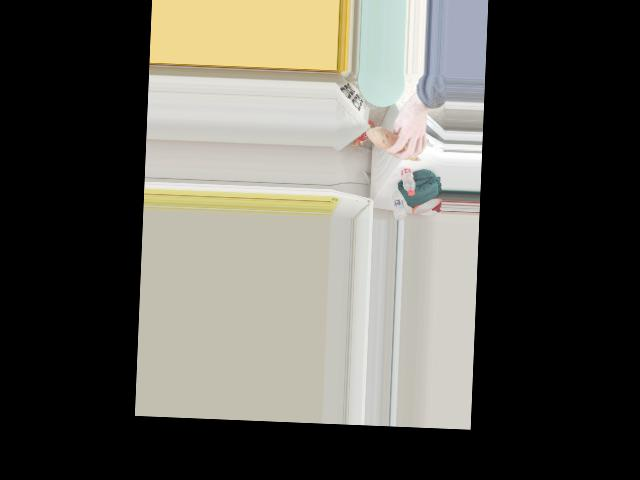sweet_potato: (367, 126, 424, 161)
